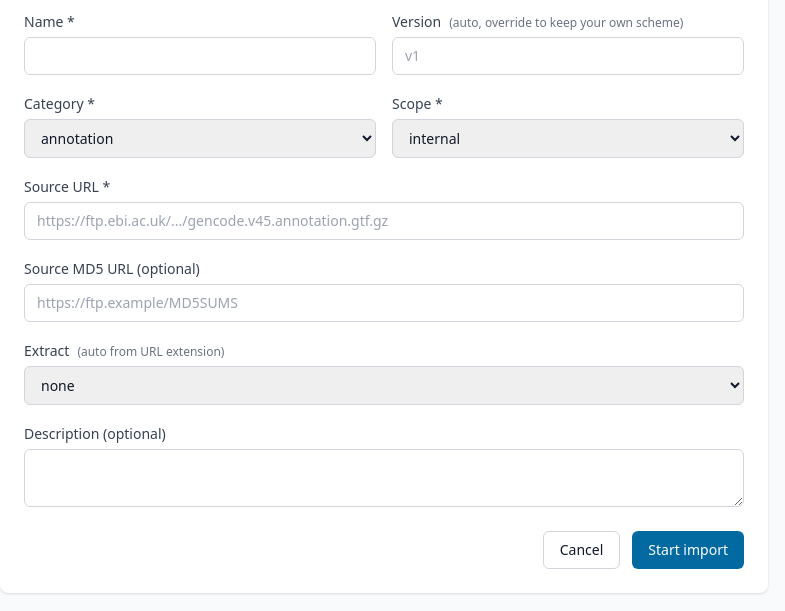
Test: UrlImportReferenceForm - auto-extract from URL › Selects extract='tar.gz' when the URL ends in .tar.gz
This screenshot has width=785, height=611.
Type "https://cf.10xgenomics.com/supp/cell-exp/refdata.tar.gz" into the field labelled "Source URL *" at (384, 221), box [24,202,744,240]
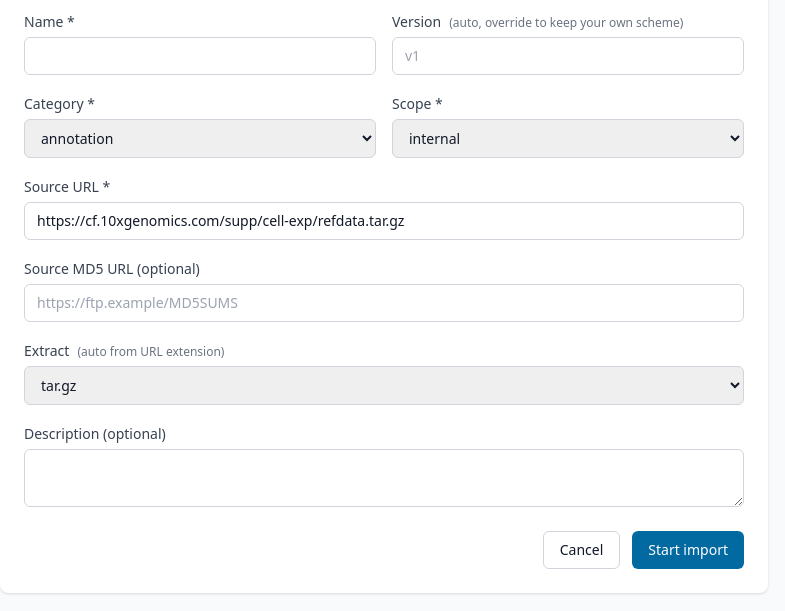
Now the dropdown labelled "Extract(auto from URL extension)" shows "tar.gz", box [24,366,744,405]
